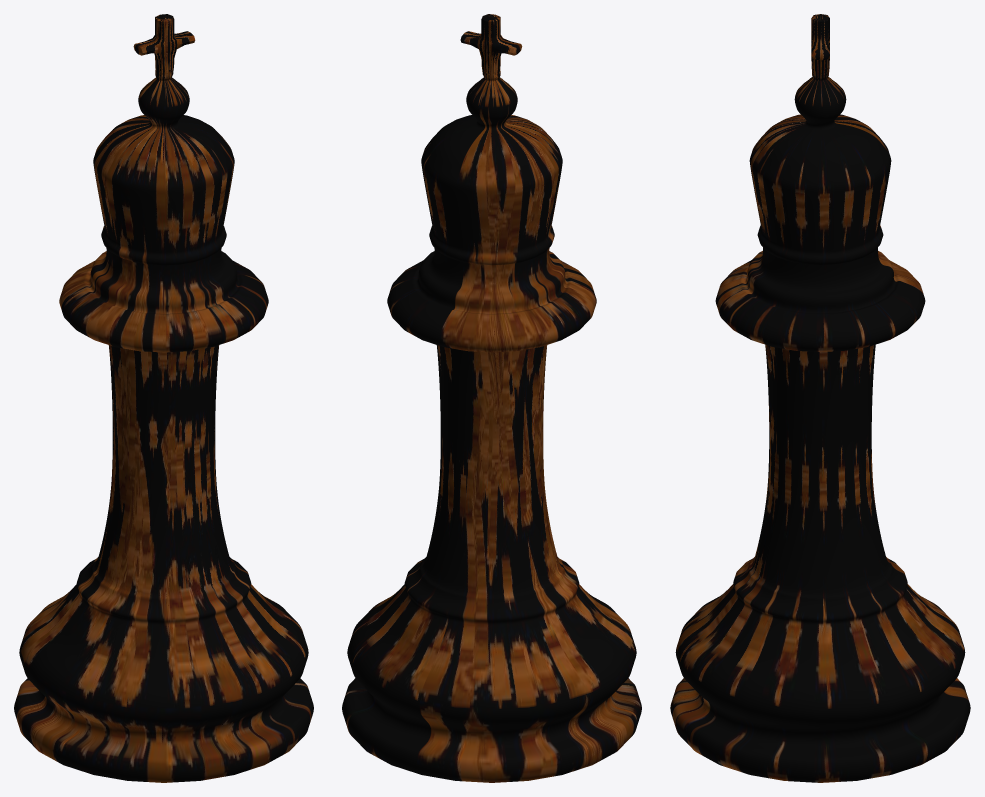
Rendered from king_dark.obj.
3 renders of one model, left to right at view 1: azimuth 30°, elevation 25°; view 2: azimuth 150°, elevation 25°; view 3: azimuth 270°, elevation 25°, orthographic.
Parts seen in each view (by area): view 1: King; view 2: King; view 3: King.
Part boxes in pixels (<box>): King: <box>14,14,313,782</box>; King: <box>342,14,641,782</box>; King: <box>670,14,970,782</box>.
Size of the model in its own units: 14.66 by 39.26 by 14.66.
1 material, 1 textured.
